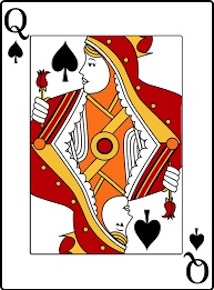QueenOfSpades: (1, 1, 214, 289)
